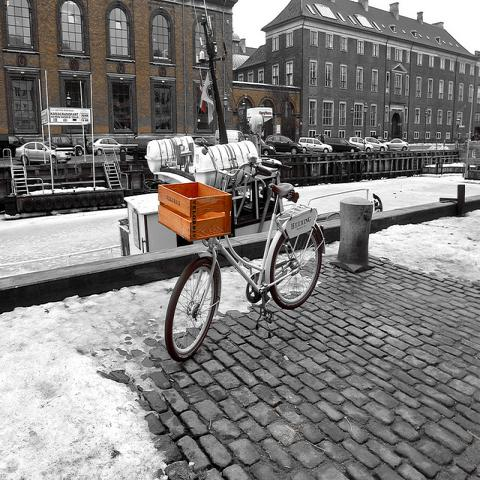car: (15, 142, 73, 166), (51, 133, 84, 157), (266, 133, 300, 156), (87, 138, 128, 156), (324, 136, 363, 152), (299, 138, 332, 154), (348, 136, 374, 152), (383, 138, 408, 152), (364, 137, 388, 151), (261, 138, 276, 155)
